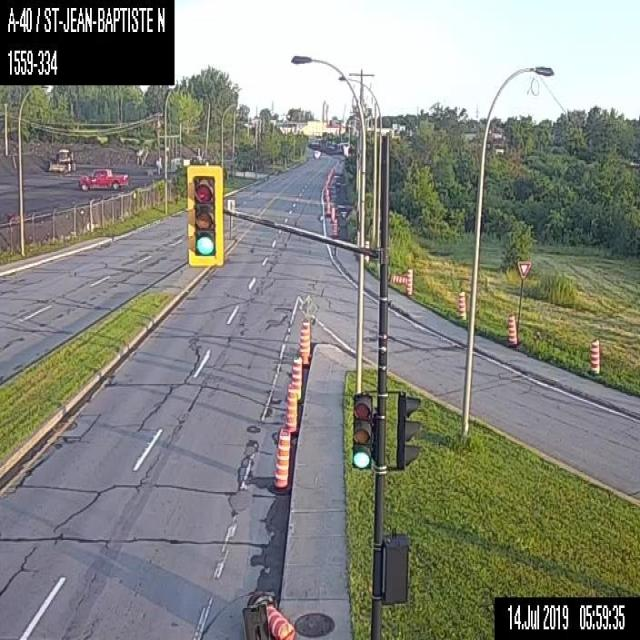construction: (241, 588, 295, 639), (273, 427, 291, 490), (283, 387, 297, 433), (289, 355, 302, 400), (299, 317, 310, 363), (587, 338, 599, 373), (506, 313, 516, 344), (456, 290, 466, 318), (406, 267, 412, 295), (391, 273, 407, 283), (332, 219, 337, 236), (330, 206, 334, 221), (326, 202, 330, 215), (324, 192, 328, 202)
vehicle: (78, 168, 128, 190), (313, 150, 319, 158)
